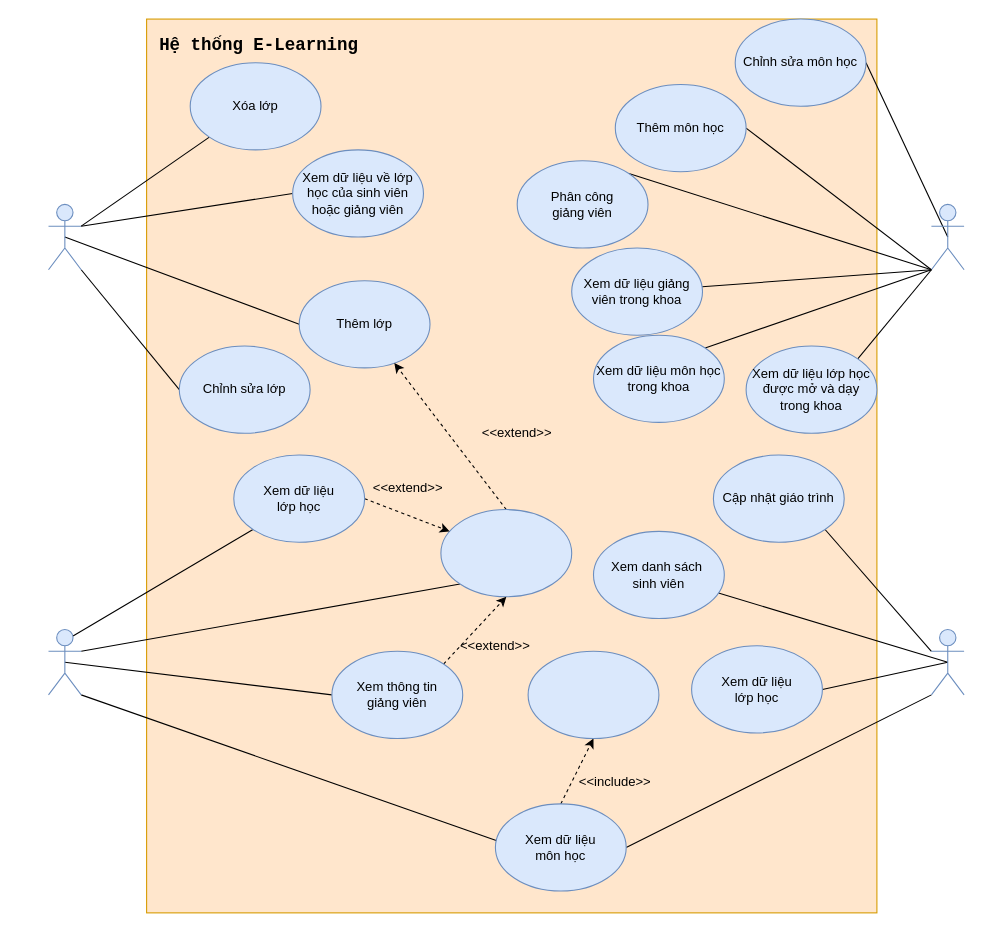
This 1004x932 diagram has some shape labels left out. Each missing label, with the centre of its shape:
"Giảng viên" goes at pixel 947 661.
"Khoa quản lý" goes at pixel 947 236.
"Phòng Đào Tạo" goes at pixel 64 236.
"Sinh Viên" goes at pixel 64 661.
"Xem danh sách giáo trình" goes at pixel 593 694.
"Đăng ký lớp học" goes at pixel 506 552.
